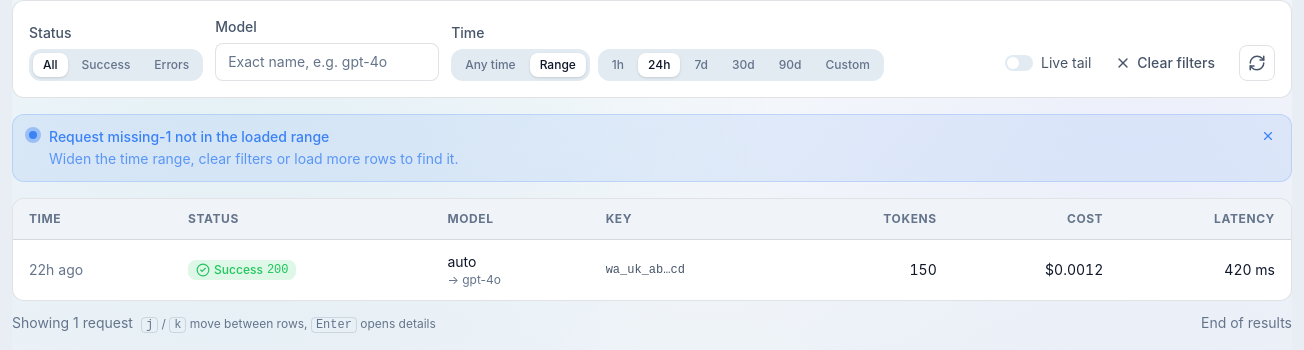
RequestLogsPage deep link (?request=) › shows a banner when the request is not in the loaded range
Check: the text "Request missing-1 not in the loaded range" is shown, box 49,128 -> 329,145
Click the button named "Dismiss" at (1268, 136), box 1257,125 -> 1279,147
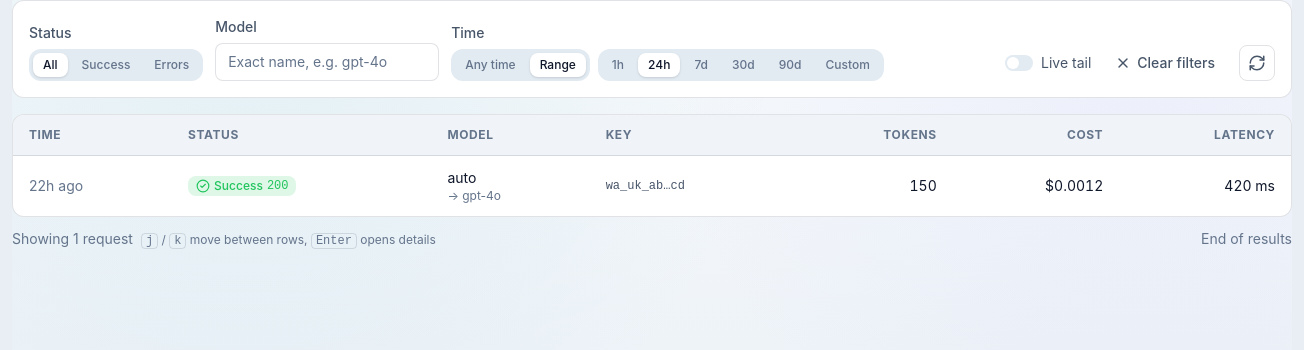
Check: the button "24h" is shown, box 638,53 -> 680,77
Check: the text "not in the loaded range" is gone
